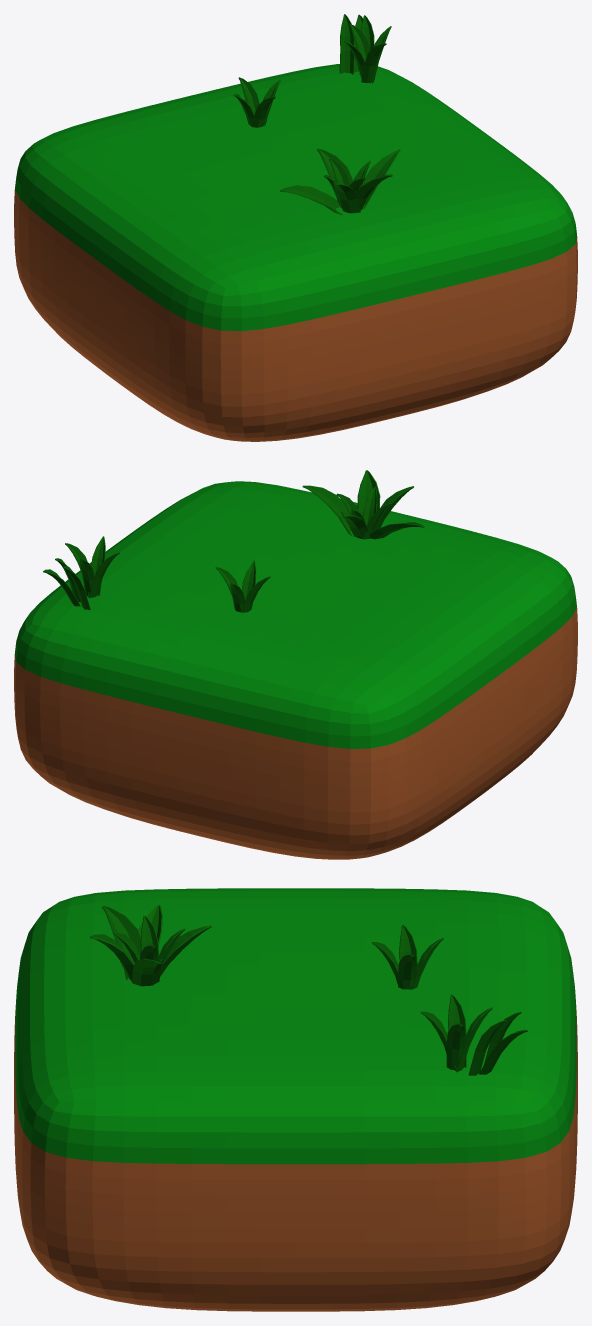
The model's file is platformVide2.fbx.
3 renders of one model, top to bottom at view 1: azimuth 30°, elevation 25°; view 2: azimuth 150°, elevation 25°; view 3: azimuth 270°, elevation 25°, orthographic. The views are drawn at different scales.
Visible parts, largest first — view 1: herbe.001; view 2: herbe.001; view 3: herbe.001.
Boxes of the visible parts, x1=… form: herbe.001: x1=14, y1=14, x2=577, y2=441; herbe.001: x1=14, y1=470, x2=577, y2=859; herbe.001: x1=14, y1=888, x2=577, y2=1311.
Bounding box in the file's own units: 200 × 120 × 200.
